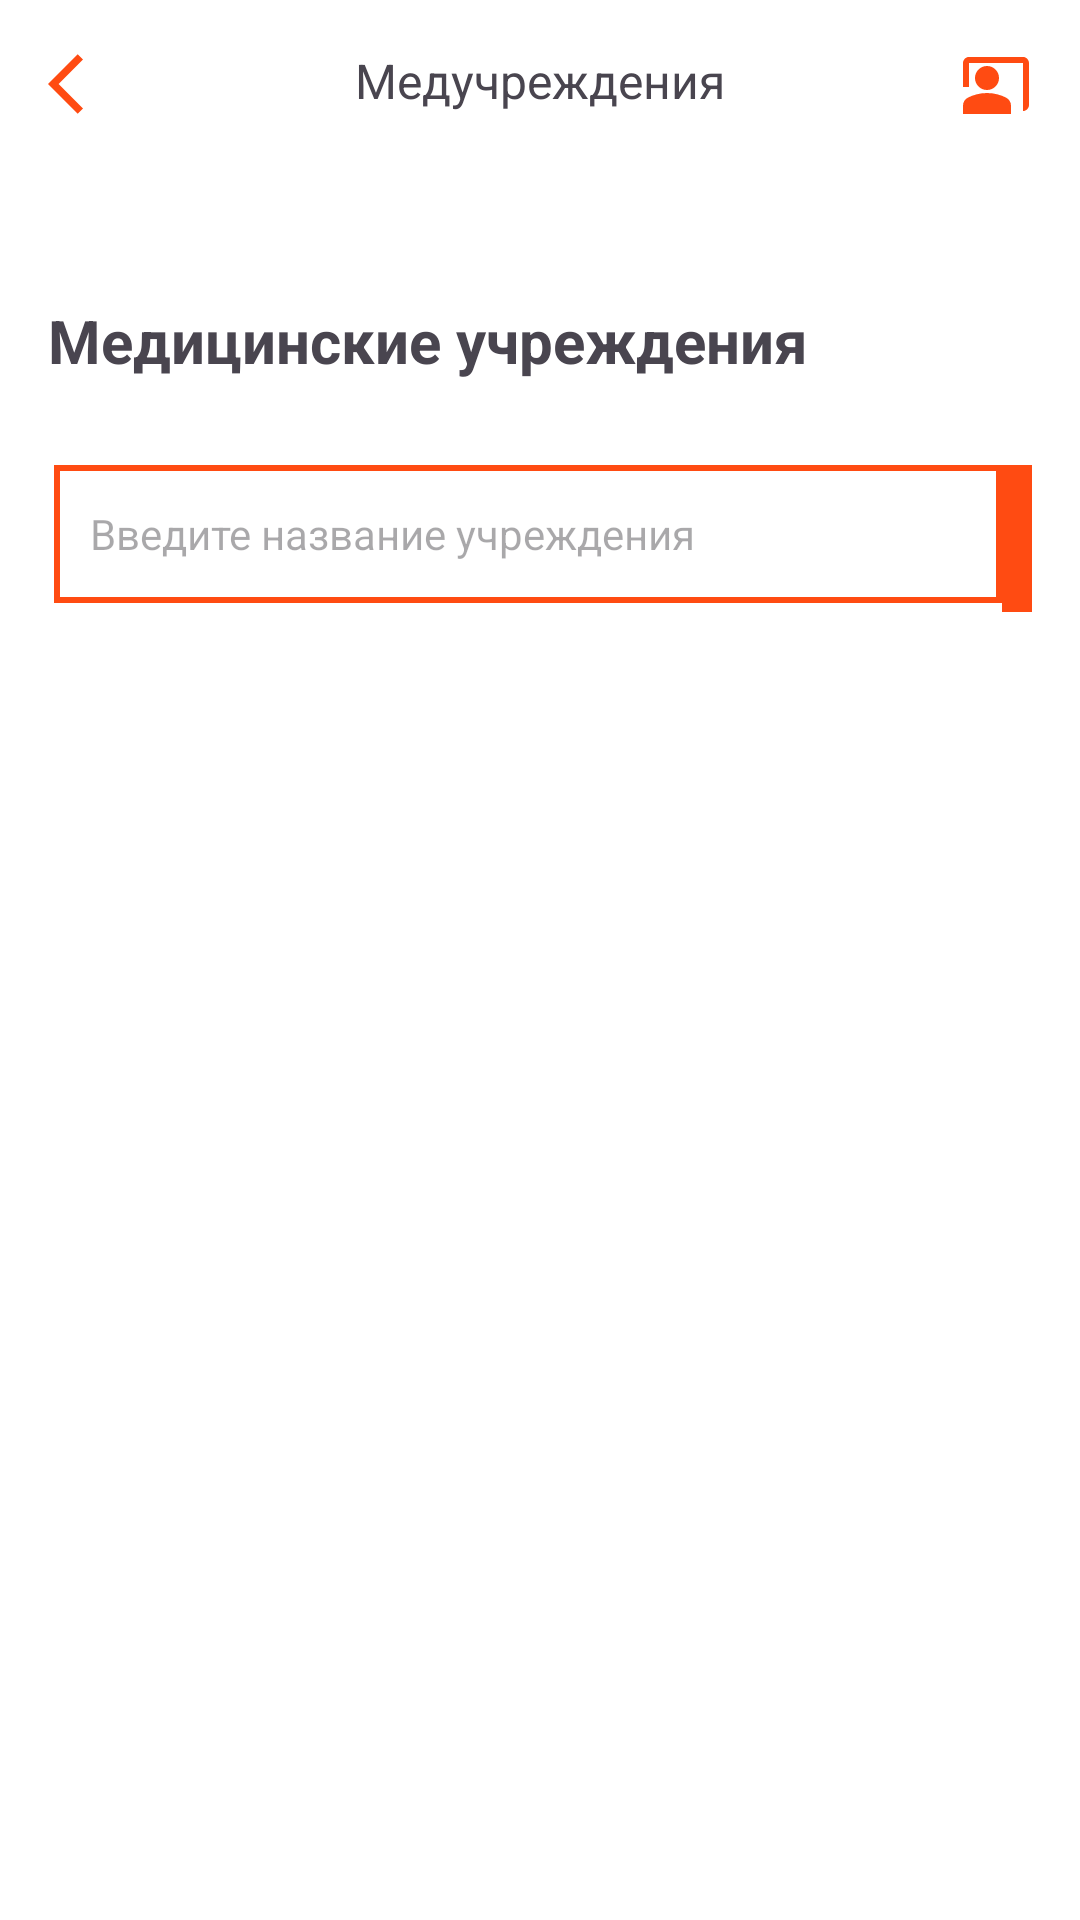

Icons on this 1080 x 1920 Android screen, each with its box as (x1, y1, x2, y2):
Назад: (48, 54, 83, 114)
Профиль: (963, 57, 1029, 114)
